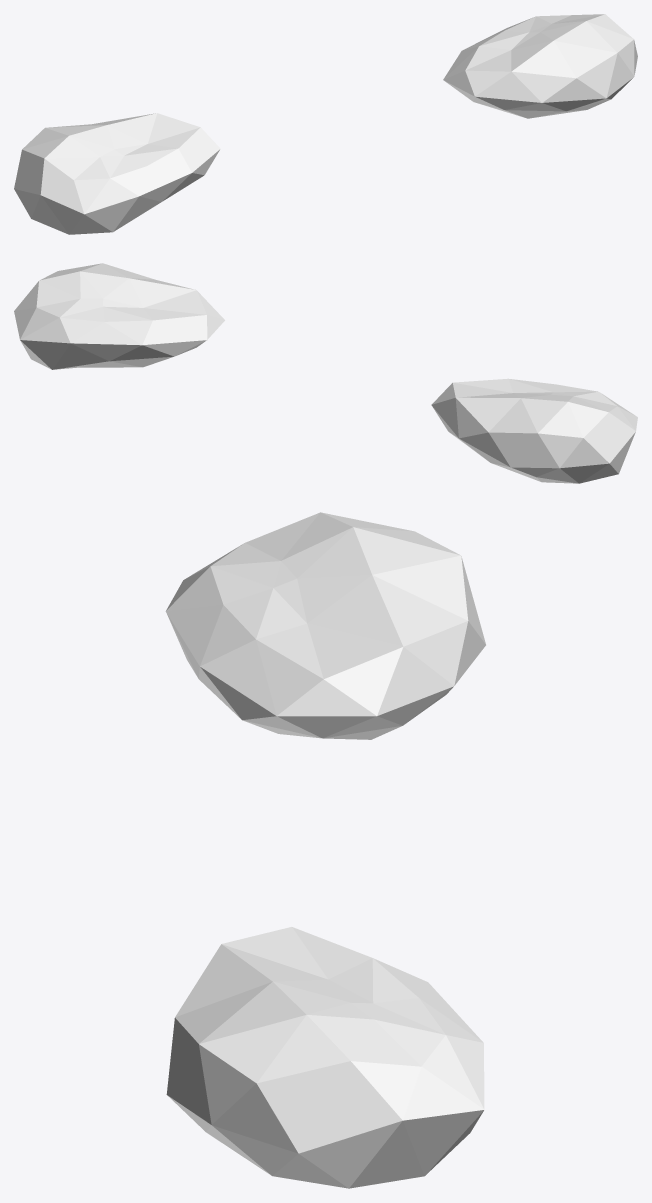
File: Pillows.fbx
The picture shows the model from 3 angles, top to bottom: view 1: azimuth 30°, elevation 25°; view 2: azimuth 150°, elevation 25°; view 3: azimuth 270°, elevation 25°; orthographic projection. The views are drawn at different scales.
Parts seen in each view (by area): view 1: Pillow1; view 2: Pillow1; view 3: Pillow1.
Part boxes in pixels (x1,y1,x2,y2): Pillow1: (14, 14, 637, 234); Pillow1: (14, 263, 637, 483); Pillow1: (165, 512, 485, 1188).
Bounding box in the file's own units: 4911 × 614 × 1142.
Materials: 1 (1 with a texture image).
